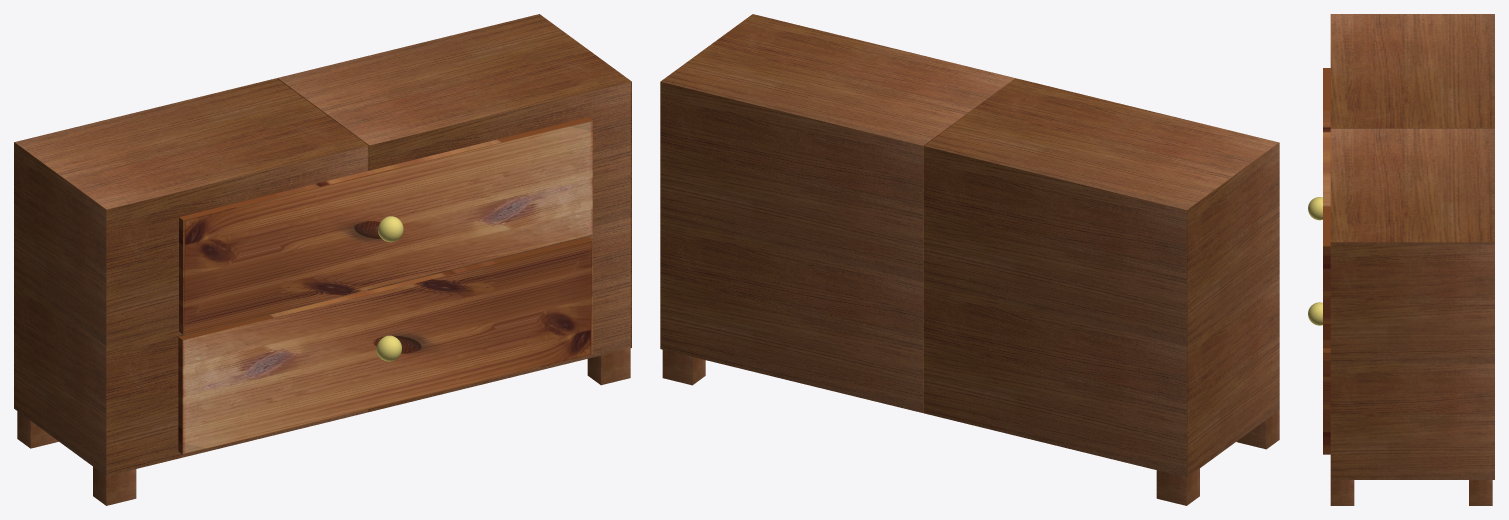
The model's file is MuebleCajones3.fbx.
3 views of the same model, side by side, from view 1: azimuth 30°, elevation 25°; view 2: azimuth 150°, elevation 25°; view 3: azimuth 270°, elevation 25° (orthographic). The views are drawn at different scales.
Visible parts, largest first — view 1: Esfera.002; view 2: Esfera.002; view 3: Esfera.002.
Part boxes in pixels (bbox=[...]): Esfera.002: bbox=[14, 14, 631, 505]; Esfera.002: bbox=[660, 14, 1279, 505]; Esfera.002: bbox=[1308, 14, 1494, 505].
Bounding box in the file's own units: 192 × 103 × 66.29.
14 materials, 12 textured.
